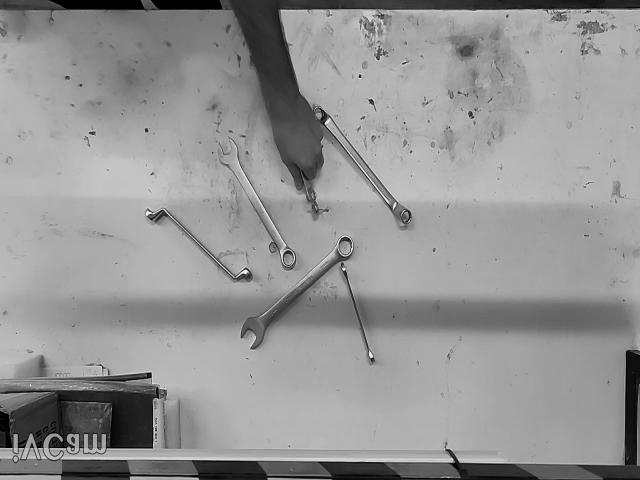Hand: (231, 1, 322, 190)
Wrench: (240, 236, 354, 350), (314, 107, 411, 225), (218, 139, 296, 270), (145, 208, 252, 282), (340, 263, 375, 365), (302, 176, 320, 215)
